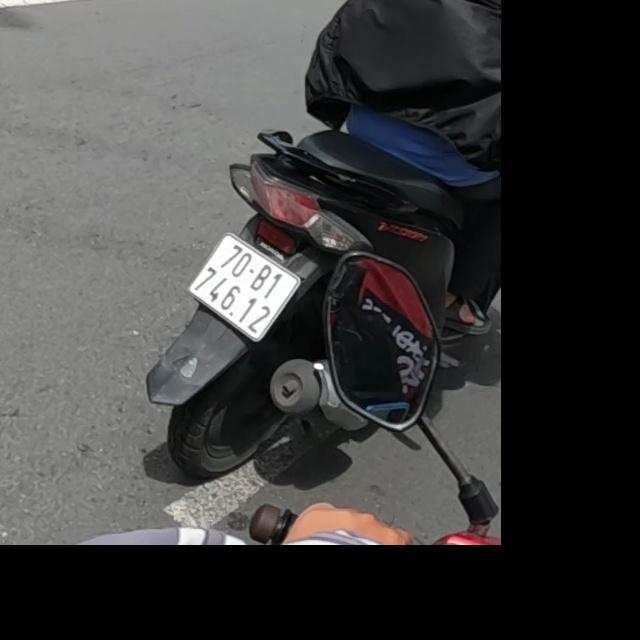license-plate: (189, 233, 302, 343)
